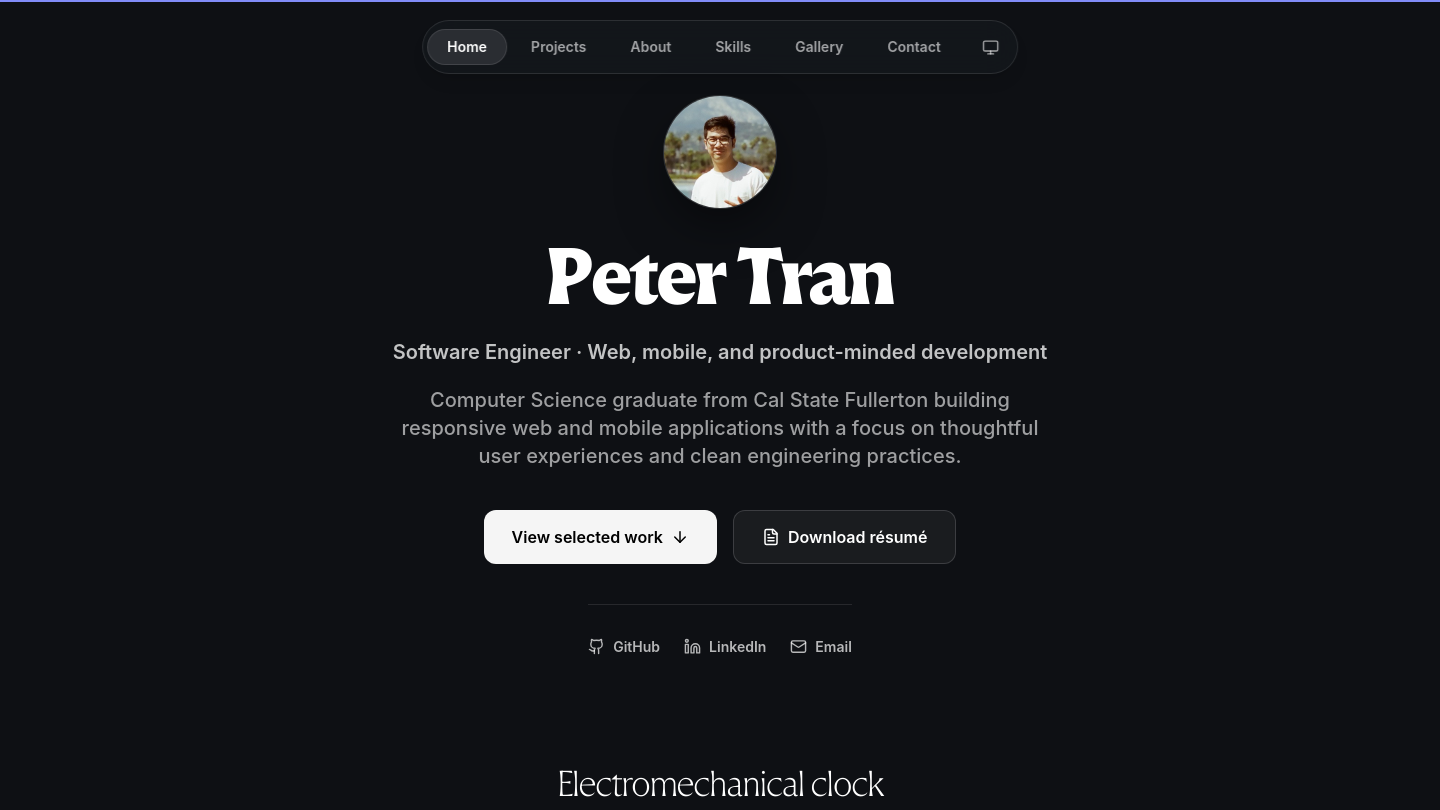
Test case: gallery photos expose descriptive names and image text
This screenshot has width=1440, height=810.
Click the link "Gallery" at x=819, y=46, box [795, 38, 843, 55]
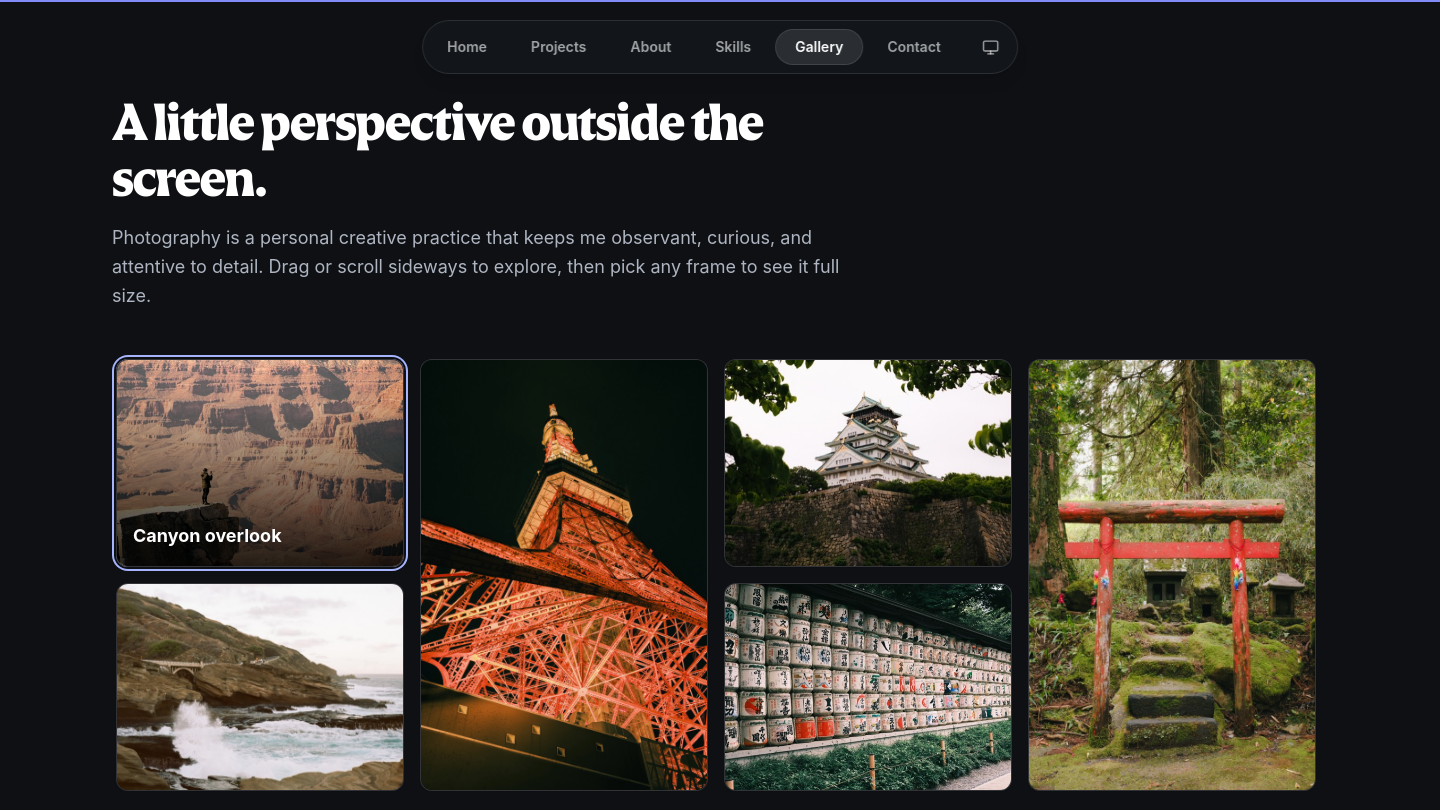
Result: the link "Gallery" is marked as current at [775, 29, 863, 65]
Click the button with aria-label "View Canyon overlook" at x=260, y=463, box [116, 359, 404, 567]
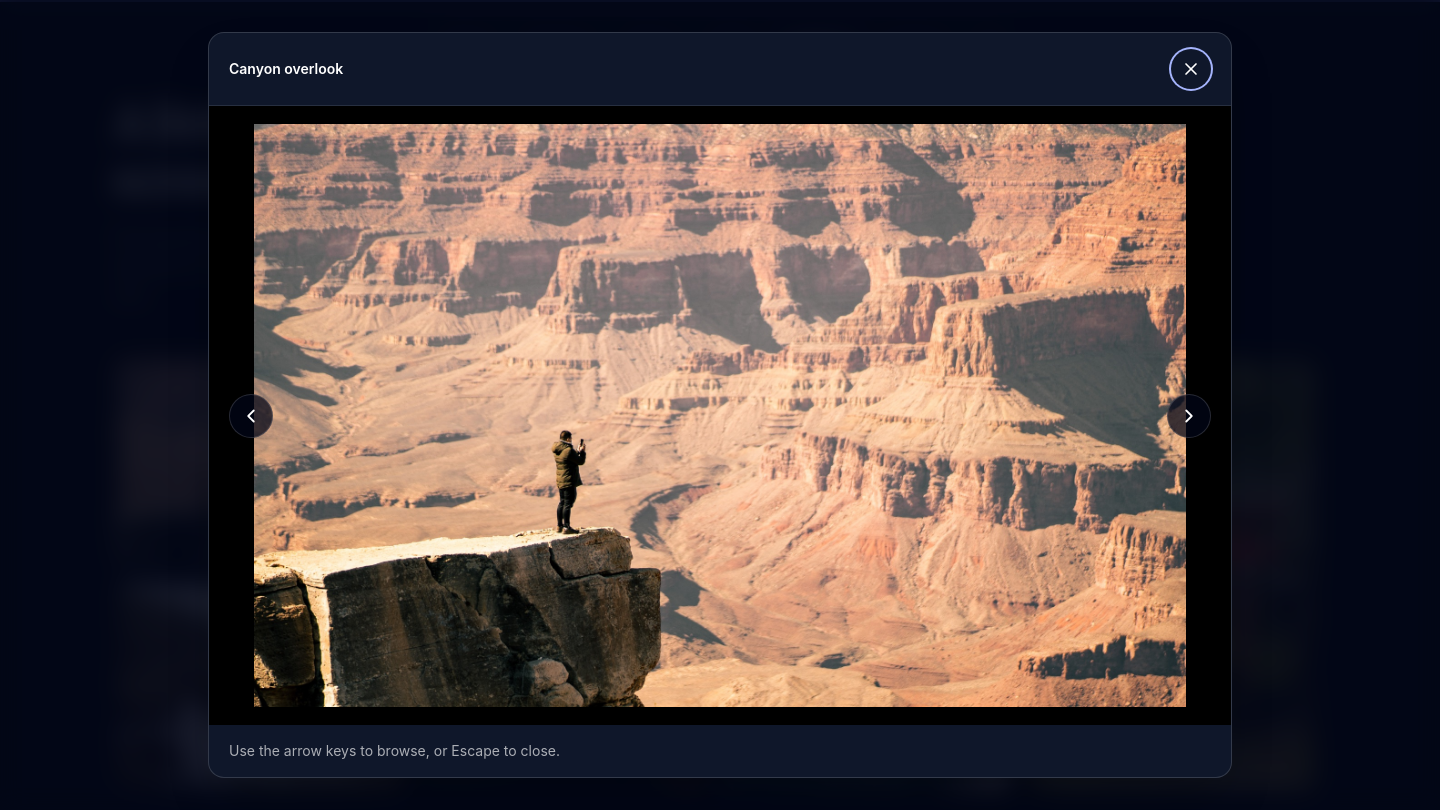
Press Escape
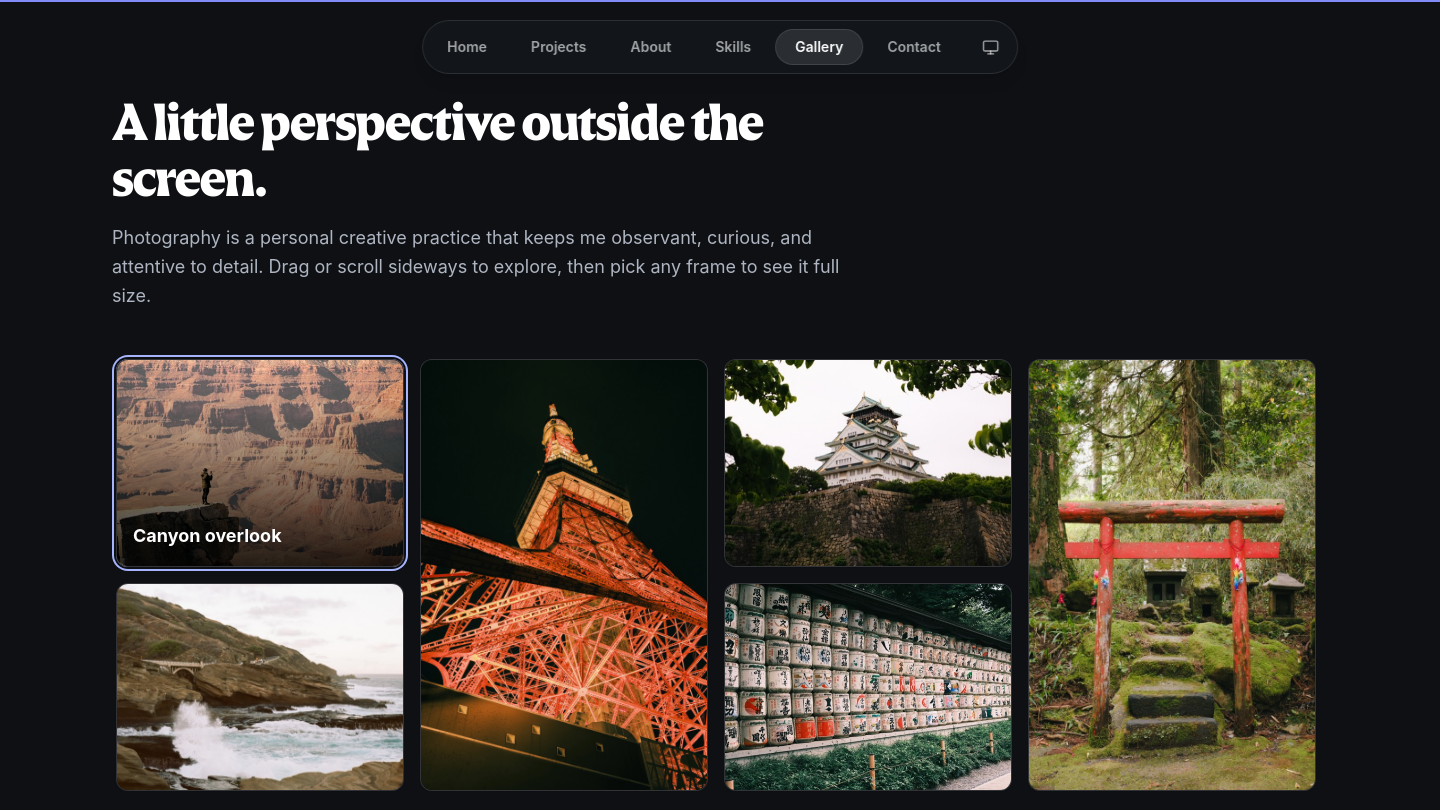
Result: the dialog is gone
